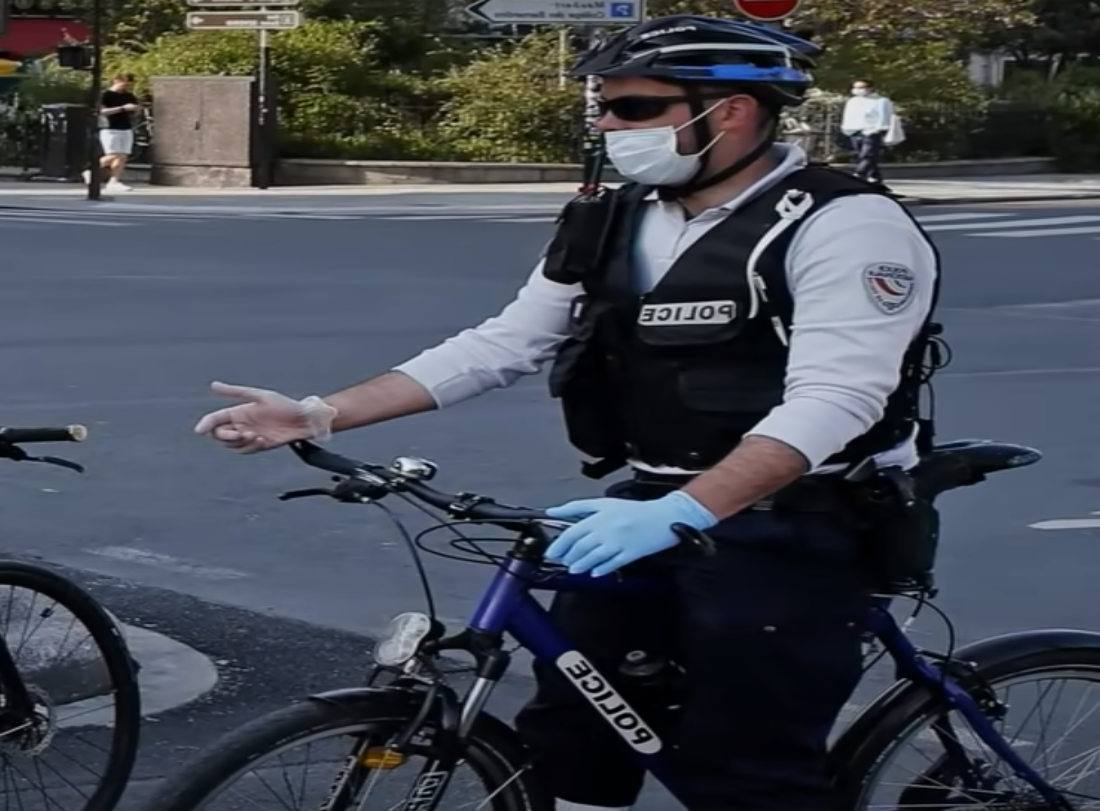mask_weared_incorrect: (585, 22, 799, 196)
